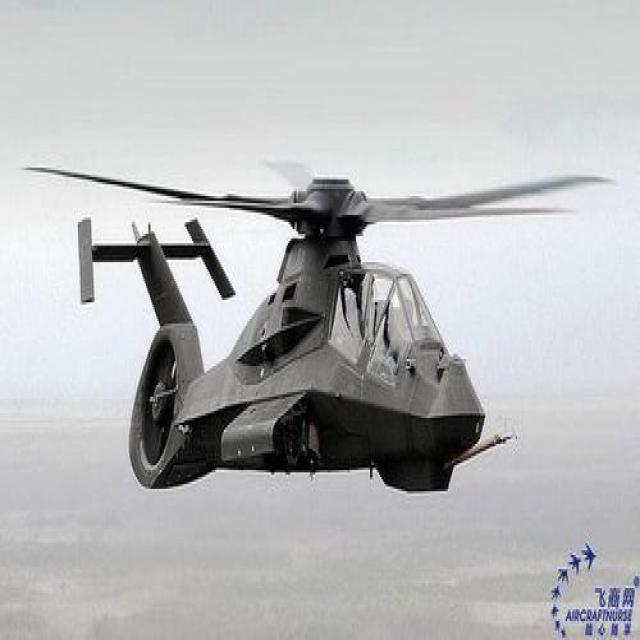MIL_HELO: (32, 128, 640, 520)
